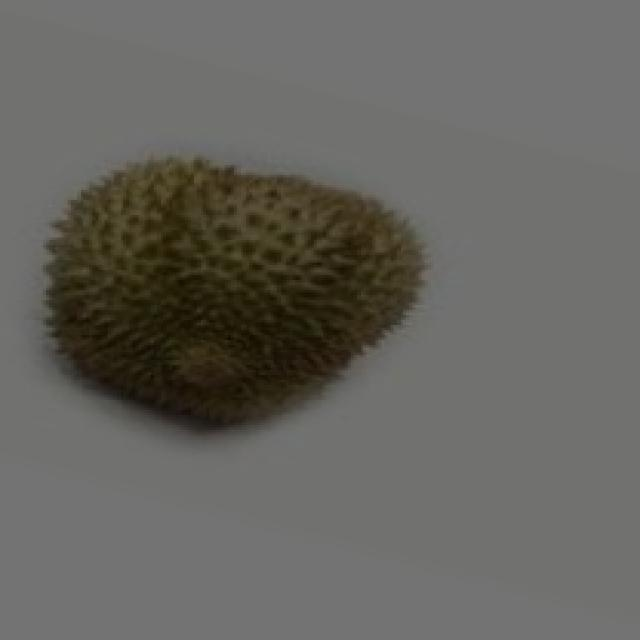fruit: (6, 118, 446, 470)
